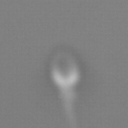normal: (56, 89, 83, 128)
